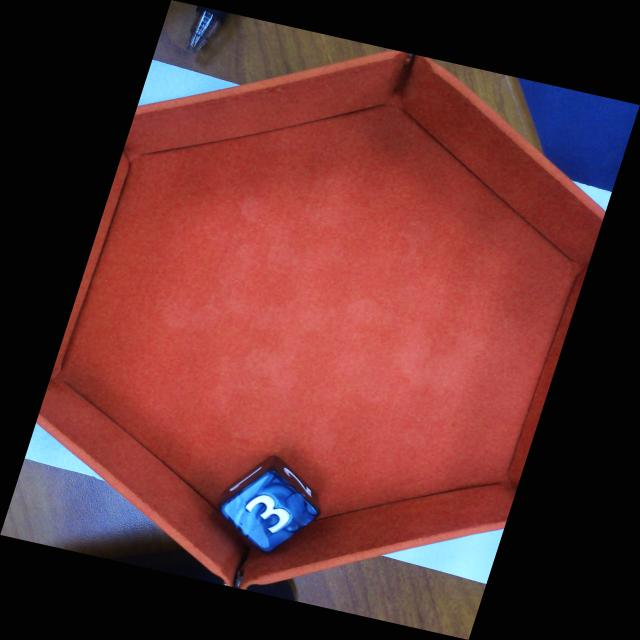dice: (214, 465, 326, 558)
